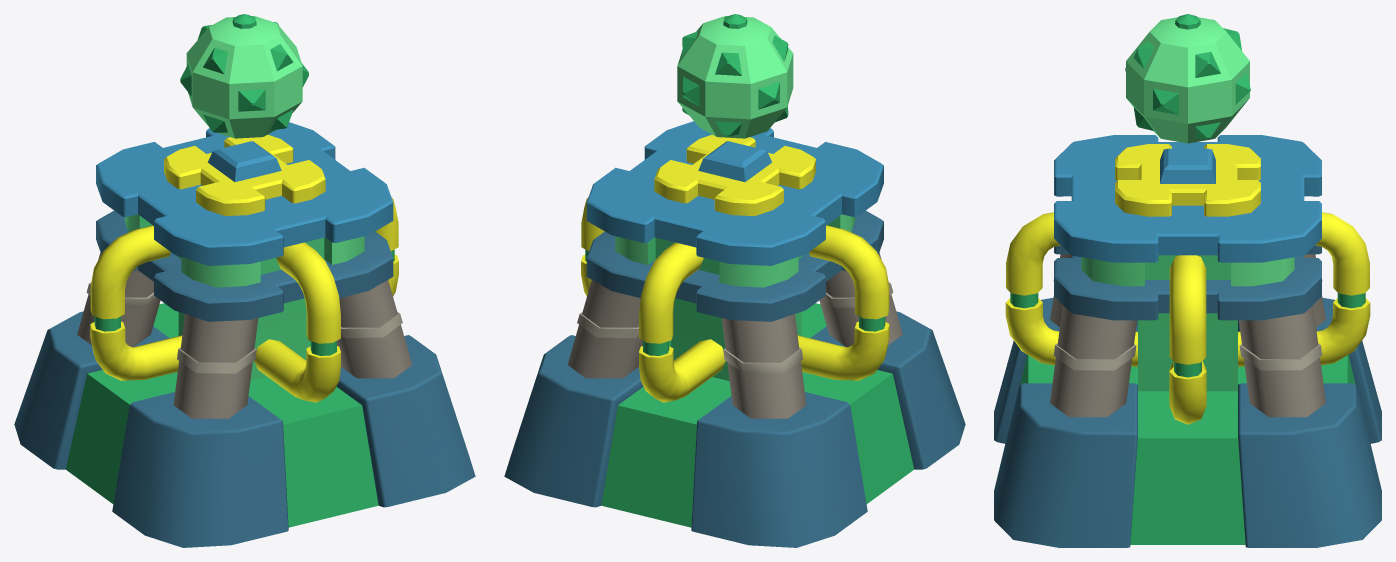
File: island5-defense3.fbx
3 renders of one model, left to right at view 1: azimuth 30°, elevation 25°; view 2: azimuth 150°, elevation 25°; view 3: azimuth 270°, elevation 25°, orthographic. The views are drawn at different scales.
Visible parts, largest first — view 1: island5(pink)-defense3, island5(pink)-defense3.01; view 2: island5(pink)-defense3, island5(pink)-defense3.01; view 3: island5(pink)-defense3, island5(pink)-defense3.01.
Boxes of the visible parts, x1,y1,x2,y2 form: island5(pink)-defense3: (14, 122, 475, 547); island5(pink)-defense3.01: (180, 14, 308, 138); island5(pink)-defense3: (504, 121, 965, 547); island5(pink)-defense3.01: (677, 14, 793, 138); island5(pink)-defense3: (994, 135, 1381, 547); island5(pink)-defense3.01: (1125, 14, 1250, 143).
Size of the model in its own units: 2.3 by 2.97 by 2.3.
Materials: 1 (1 with a texture image).
